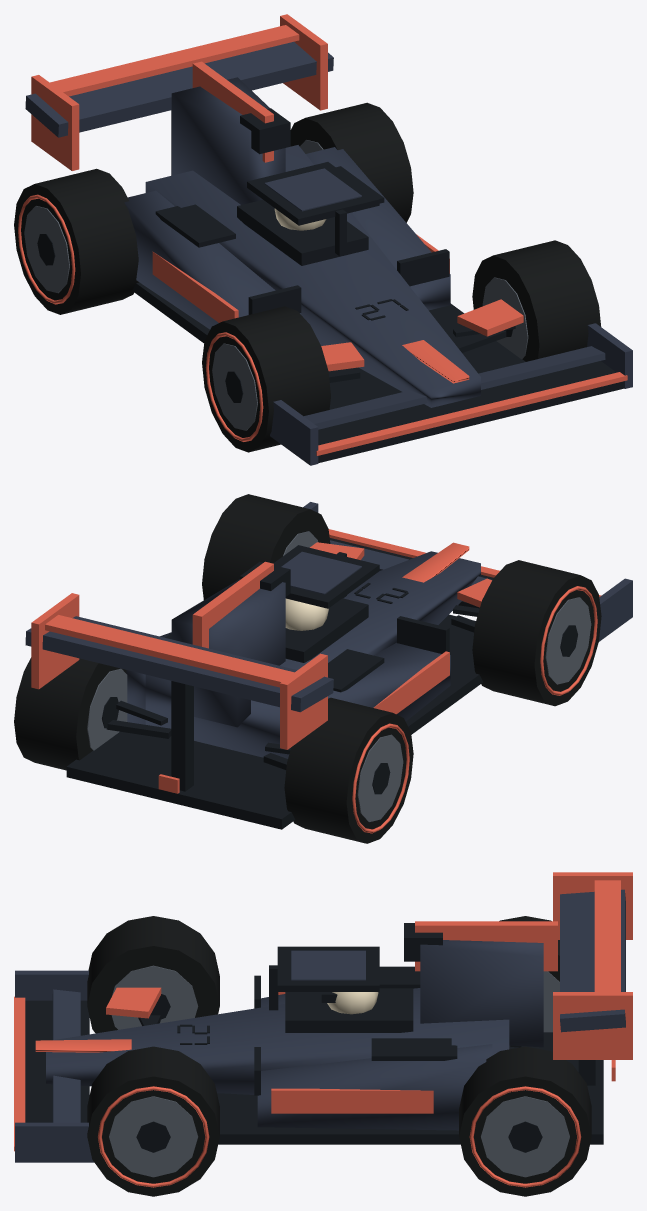
Rendered from obsidian-27.glb.
3 views of the same model, one above another, from view 1: azimuth 30°, elevation 25°; view 2: azimuth 150°, elevation 25°; view 3: azimuth 270°, elevation 25° (orthographic).
Parts seen in each view (by area): view 1: formula-27, wheel (×4); view 2: formula-27, wheel (×4); view 3: formula-27, wheel (×4).
Part boxes in pixels (x1=…): formula-27: x1=25, y1=14, x2=632, y2=465; wheel (×4): x1=14, y1=102, x2=601, y2=452; formula-27: x1=25, y1=502, x2=632, y2=829; wheel (×4): x1=14, y1=494, x2=601, y2=843; formula-27: x1=14, y1=872, x2=632, y2=1162; wheel (×4): x1=87, y1=916, x2=591, y2=1196.
Size of the model in its own units: 3.37 by 1.86 by 5.41.
